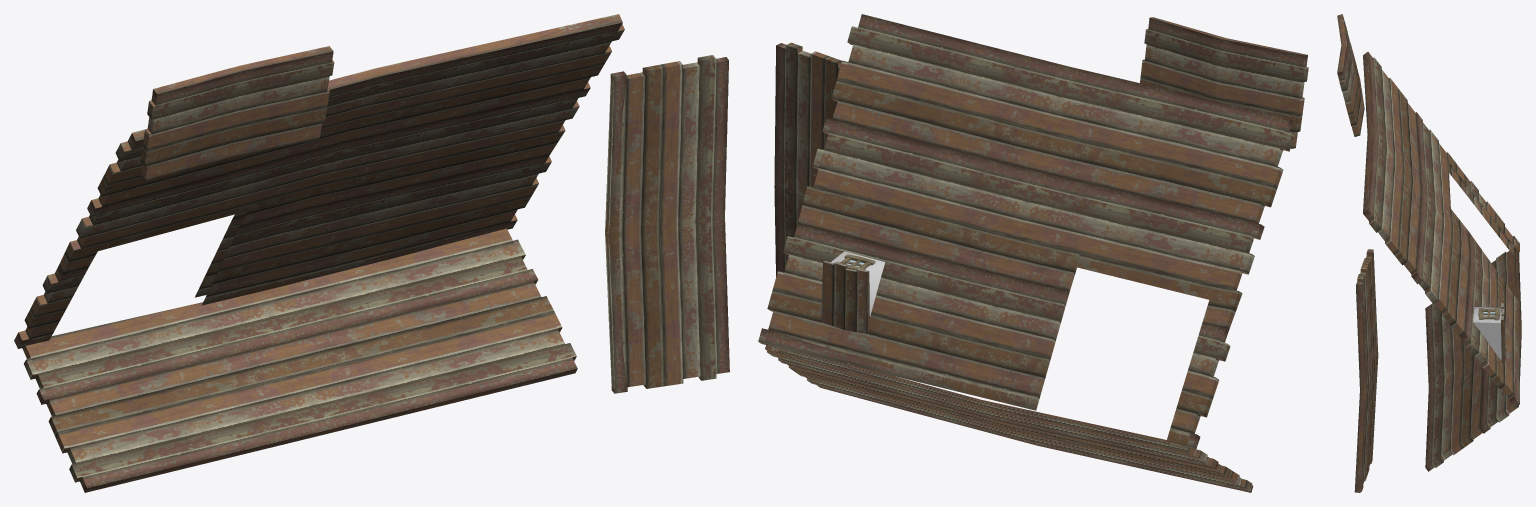
Rendered from Pirate_Bar_Roof_A.fbx.
The picture shows the model from 3 angles, left to right: view 1: azimuth 30°, elevation 25°; view 2: azimuth 150°, elevation 25°; view 3: azimuth 270°, elevation 25°; orthographic projection. The views are drawn at different scales.
Parts seen in each view (by area): view 1: Pirate_Bar_Roof_A; view 2: Pirate_Bar_Roof_A; view 3: Pirate_Bar_Roof_A.
Part boxes in pixels (left/top/right/bottom): Pirate_Bar_Roof_A: left=14, top=14, right=729, bottom=492; Pirate_Bar_Roof_A: left=758, top=14, right=1308, bottom=492; Pirate_Bar_Roof_A: left=1337, top=14, right=1521, bottom=492.
Size of the model in its own units: 25.34 by 18.4 by 10.21.
